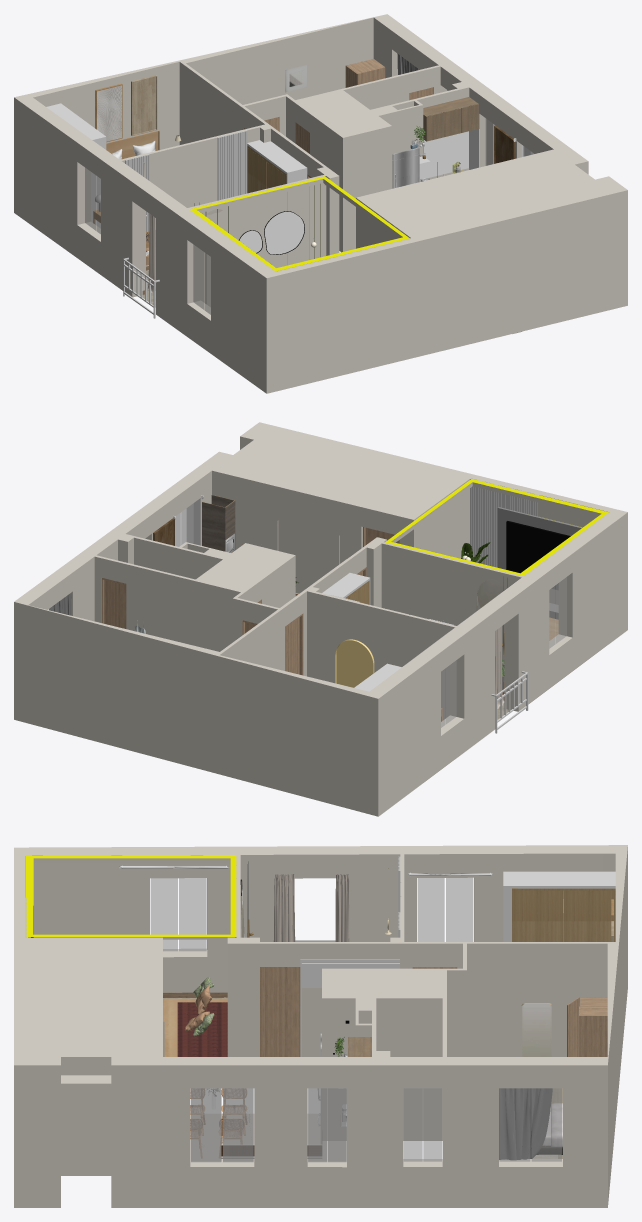
File: burgos-floor-3-1.glb
The picture shows the model from 3 angles, top to bottom: view 1: azimuth 30°, elevation 25°; view 2: azimuth 150°, elevation 25°; view 3: azimuth 270°, elevation 25°; orthographic projection. The views are drawn at different scales.
Visible parts, largest first — view 1: 3DGeom-493.001, 3DGeom-52.006, 3DGeom-940.057, 3DGeom-744.001, 3DGeom-495.001, 3DGeom-498.001, 3DGeom-1689.001, 3DGeom-1708.001, 3DGeom-485.002, 3DGeom-960.001, 3DGeom-8.002, 3DGeom-901.001 (+3 smaller); view 2: 3DGeom-493.001, 3DGeom-52.006, 3DGeom-485.002, 3DGeom-940.057, 3DGeom-744.001, 3DGeom-47.002, 3DGeom-1708.001, 3DGeom-1244.001, 3DGeom-823.001, 3DGeom-93.002; view 3: 3DGeom-493.001, 3DGeom-744.001, 3DGeom-485.002, 3DGeom-901.001, 3DGeom-52.006, 3DGeom-435.001, 3DGeom-1708.001, 3DGeom-12.001, 3DGeom-1083.001, 3DGeom-85.002, 3DGeom-113.002, 3DGeom-1264.006 (+4 smaller).
Boxes of the visible parts, x1=… form: 3DGeom-493.001: x1=14, y1=14, x2=627, y2=393; 3DGeom-52.006: x1=46, y1=103, x2=530, y2=318; 3DGeom-940.057: x1=125, y1=130, x2=411, y2=254; 3DGeom-744.001: x1=85, y1=90, x2=533, y2=314; 3DGeom-495.001: x1=419, y1=129, x2=479, y2=181; 3DGeom-498.001: x1=423, y1=97, x2=478, y2=141; 3DGeom-1689.001: x1=239, y1=211, x2=304, y2=254; 3DGeom-1708.001: x1=189, y1=176, x2=409, y2=271; 3DGeom-485.002: x1=146, y1=59, x2=433, y2=265; 3DGeom-960.001: x1=131, y1=75, x2=157, y2=135; 3DGeom-8.002: x1=97, y1=85, x2=121, y2=141; 3DGeom-901.001: x1=247, y1=146, x2=286, y2=193; 3DGeom-493.001: x1=14, y1=422, x2=627, y2=816; 3DGeom-52.006: x1=151, y1=498, x2=528, y2=733; 3DGeom-485.002: x1=101, y1=527, x2=399, y2=675; 3DGeom-940.057: x1=329, y1=478, x2=537, y2=625; 3DGeom-744.001: x1=48, y1=503, x2=566, y2=727; 3DGeom-47.002: x1=227, y1=521, x2=570, y2=573; 3DGeom-1708.001: x1=385, y1=479, x2=608, y2=576; 3DGeom-1244.001: x1=497, y1=507, x2=582, y2=619; 3DGeom-823.001: x1=202, y1=495, x2=243, y2=551; 3DGeom-93.002: x1=335, y1=639, x2=374, y2=687; 3DGeom-493.001: x1=14, y1=845, x2=627, y2=1207; 3DGeom-744.001: x1=150, y1=877, x2=561, y2=1162; 3DGeom-485.002: x1=260, y1=967, x2=607, y2=1056; 3DGeom-901.001: x1=512, y1=888, x2=615, y2=941; 3DGeom-52.006: x1=119, y1=865, x2=615, y2=1167; 3DGeom-435.001: x1=499, y1=1088, x2=552, y2=1160; 3DGeom-1708.001: x1=25, y1=855, x2=236, y2=937; 3DGeom-12.001: x1=273, y1=874, x2=349, y2=941; 3DGeom-1083.001: x1=177, y1=1002, x2=227, y2=1056; 3DGeom-85.002: x1=240, y1=880, x2=551, y2=1056; 3DGeom-113.002: x1=163, y1=998, x2=227, y2=1056; 3DGeom-1264.006: x1=542, y1=1103, x2=562, y2=1146.
Size of the model in its own units: 9.35 by 3.11 by 10.92.
Materials: 145 (93 with a texture image).
